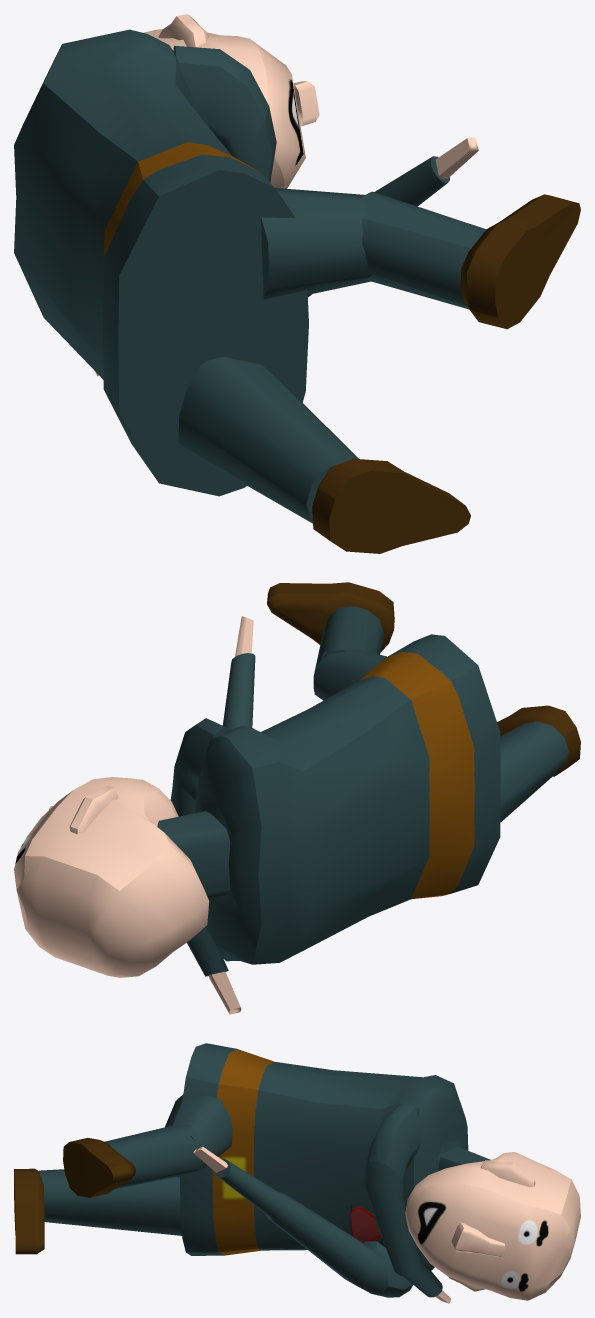
Rendered from bolore_pls.fbx.
3 views of the same model, one above another, from view 1: azimuth 30°, elevation 25°; view 2: azimuth 150°, elevation 25°; view 3: azimuth 270°, elevation 25° (orthographic). The views are drawn at different scales.
Visible parts, largest first — view 1: BUSTE, pCube8 (×2), pCube9 (×2), pCube10, bras_D, pCylinder7, bras_g, pCylinder10; view 2: BUSTE, pCylinder7, pCube8 (×2), pCube9 (×2), bras_D, pCube10, bras_g, pCylinder10; view 3: BUSTE, pCylinder7, pCube8 (×2), bras_g, bras_D, pCube9 (×2), pCube10, pCylinder10.
Boxes of the visible parts, <box> form: BUSTE: <box>14,29,308,496</box>; pCube8 (×2): <box>178,188,371,523</box>; pCube9 (×2): <box>312,194,580,553</box>; pCube10: <box>360,191,485,309</box>; bras_D: <box>95,45,276,376</box>; pCylinder7: <box>143,29,319,188</box>; bras_g: <box>307,137,478,297</box>; pCylinder10: <box>158,14,208,47</box>; BUSTE: <box>157,634,500,964</box>; pCylinder7: <box>14,777,209,977</box>; pCube8 (×2): <box>314,649,568,822</box>; pCube9 (×2): <box>267,582,580,776</box>; bras_D: <box>170,718,241,1014</box>; pCube10: <box>313,606,384,691</box>; bras_g: <box>219,616,255,961</box>; pCylinder10: <box>69,785,118,834</box>; BUSTE: <box>180,1043,490,1270</box>; pCylinder7: <box>405,1152,580,1300</box>; pCube8 (×2): <box>39,1094,232,1235</box>; bras_g: <box>193,1146,412,1297</box>; bras_D: <box>363,1102,450,1303</box>; pCube9 (×2): <box>14,1138,135,1254</box>; pCube10: <box>105,1124,201,1189</box>; pCylinder10: <box>480,1160,535,1187</box>.
Bounding box in the file's own units: 2.05 × 1.83 × 4.06.
1 material, 1 textured.
